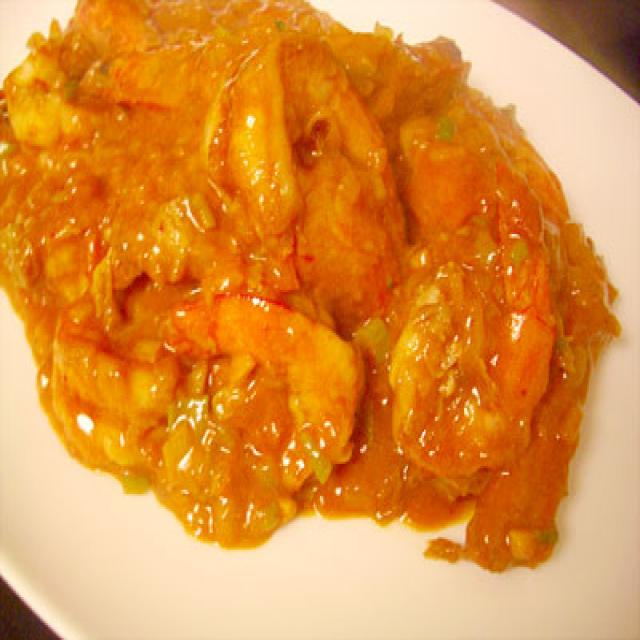熟制海鲜: (0, 0, 622, 580)
